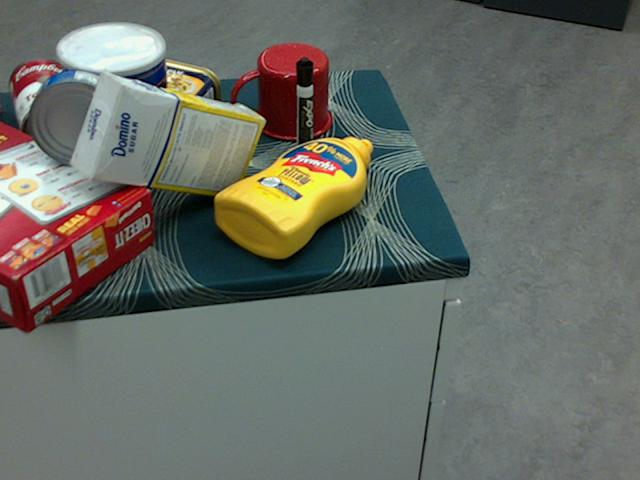cracker_box: (0, 121, 154, 329)
gelatin_box: (0, 102, 2, 114)
large_marker: (294, 57, 313, 163)
master_chef_can: (58, 24, 171, 193)
mug: (229, 43, 330, 141)
mustard_bottle: (214, 136, 372, 258)
potted_meat_can: (108, 56, 220, 145)
sugar_box: (71, 74, 264, 197)
tomato_soup_can: (11, 56, 84, 156)
tuna_fish_can: (27, 69, 125, 166)
